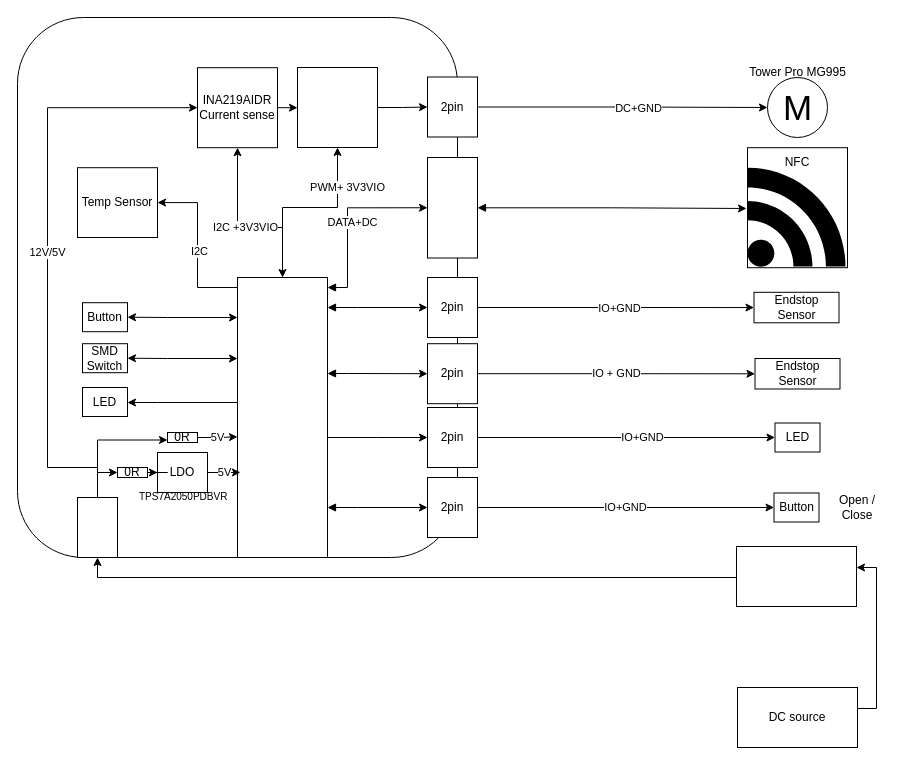
Some shapes in this 905 by 765 pixel diagram are drawn without their labels. The centre of each missing label's shape, as x and y in pixels:
"A4950 Motor Control" belongs at [337,107].
"DC IN 2 pin" belongs at [97,527].
"Pico" belongs at [282,417].
"Switch" belongs at [796,576].
